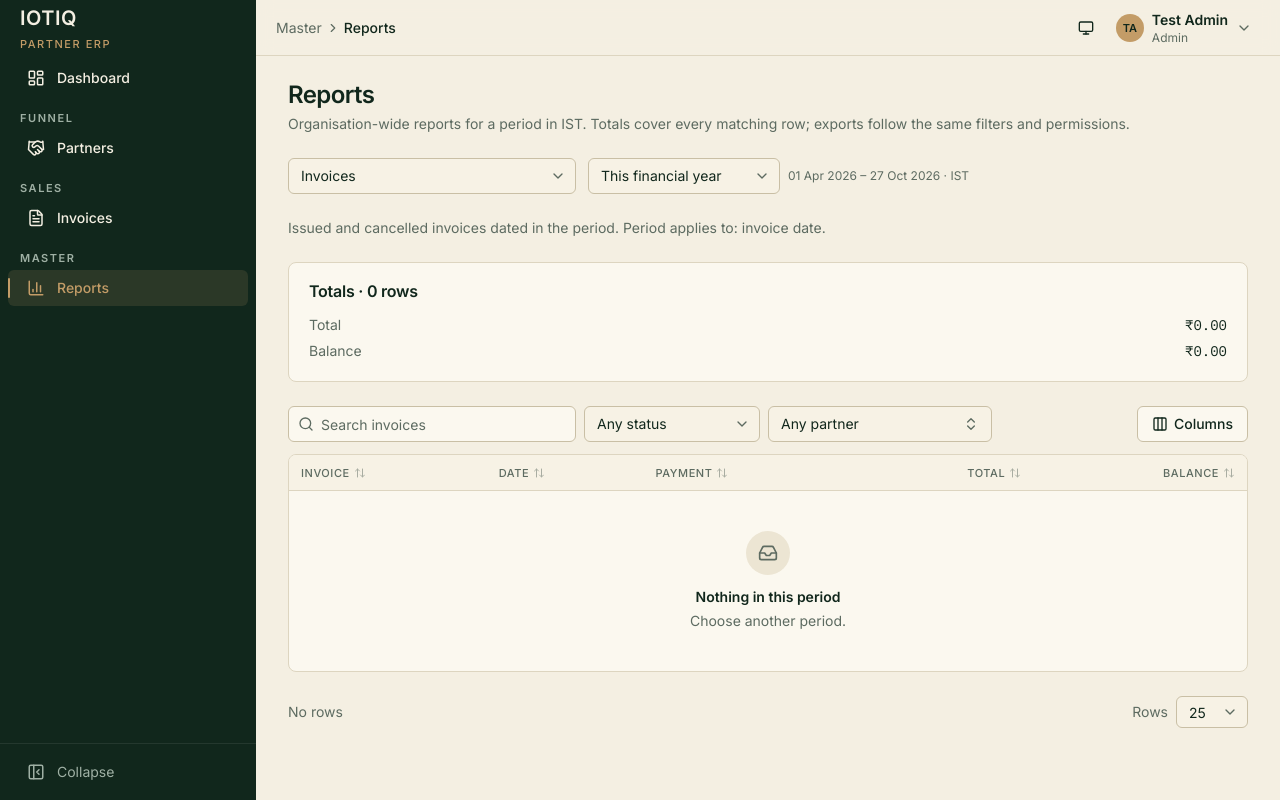
Test case: reports › shows empty and error states
The width and height of the screenshot is (1280, 800).
expect the text "Nothing in this period" is shown: met, box [696, 587, 840, 607]
Step 1. Select "Today" in the dropdown named "Period" → (684, 176), box [588, 158, 780, 194]
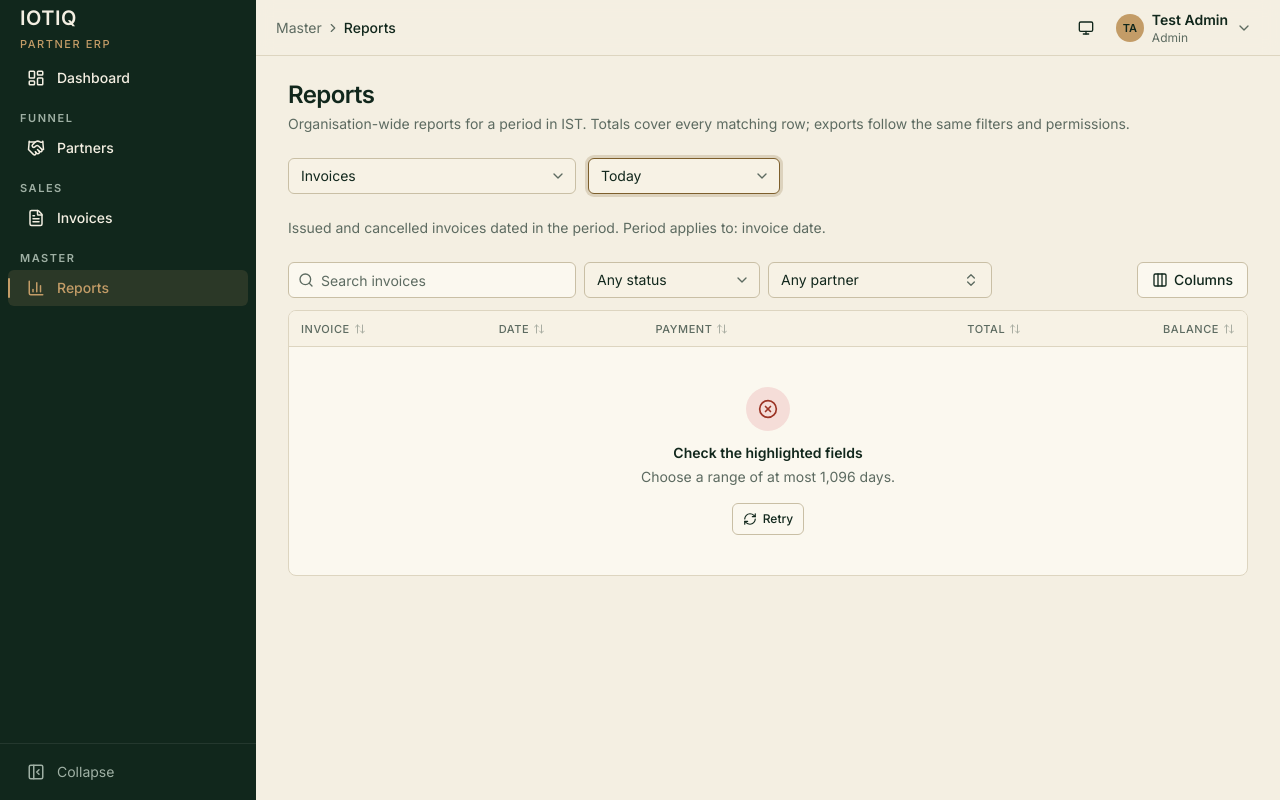
expect the text "Choose a range of at most 1,096 days." is shown: met, box [641, 467, 895, 487]
